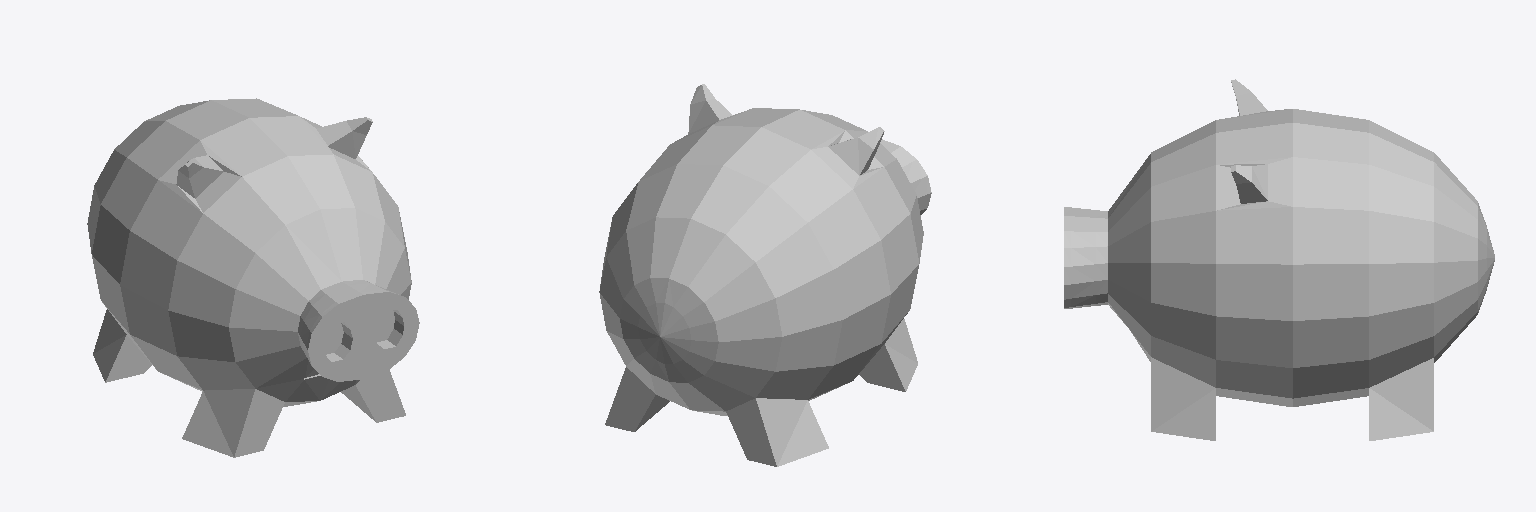
File: pig.obj
The picture shows the model from 3 angles: view 1: azimuth 30°, elevation 25°; view 2: azimuth 150°, elevation 25°; view 3: azimuth 270°, elevation 25°; orthographic projection.
Bounding box in the file's own units: 2 × 1.97 × 2.88.